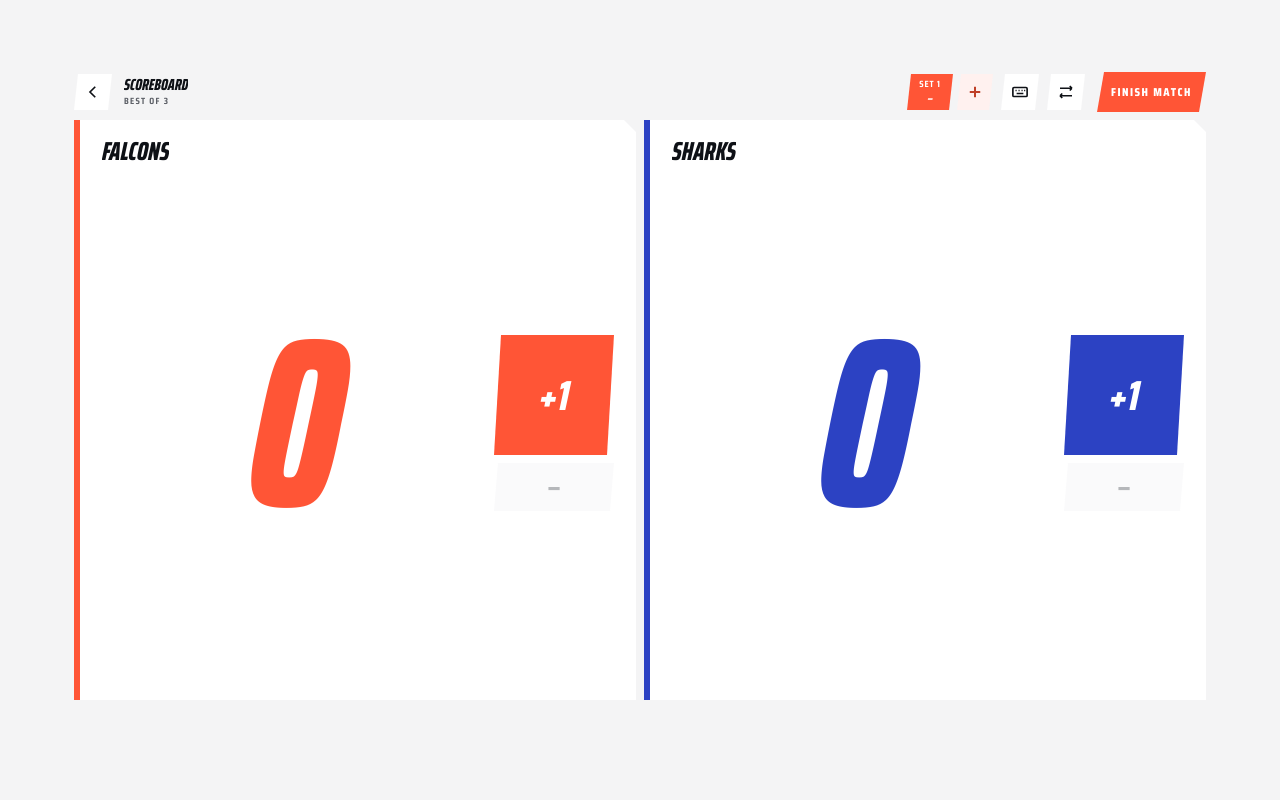
Test: modal mode: the right-side drawer › opens as a right-side drawer on desktop
Click the button named "Type scores" at coordinates (1020, 92), box x1=998 y1=70 x2=1042 y2=114
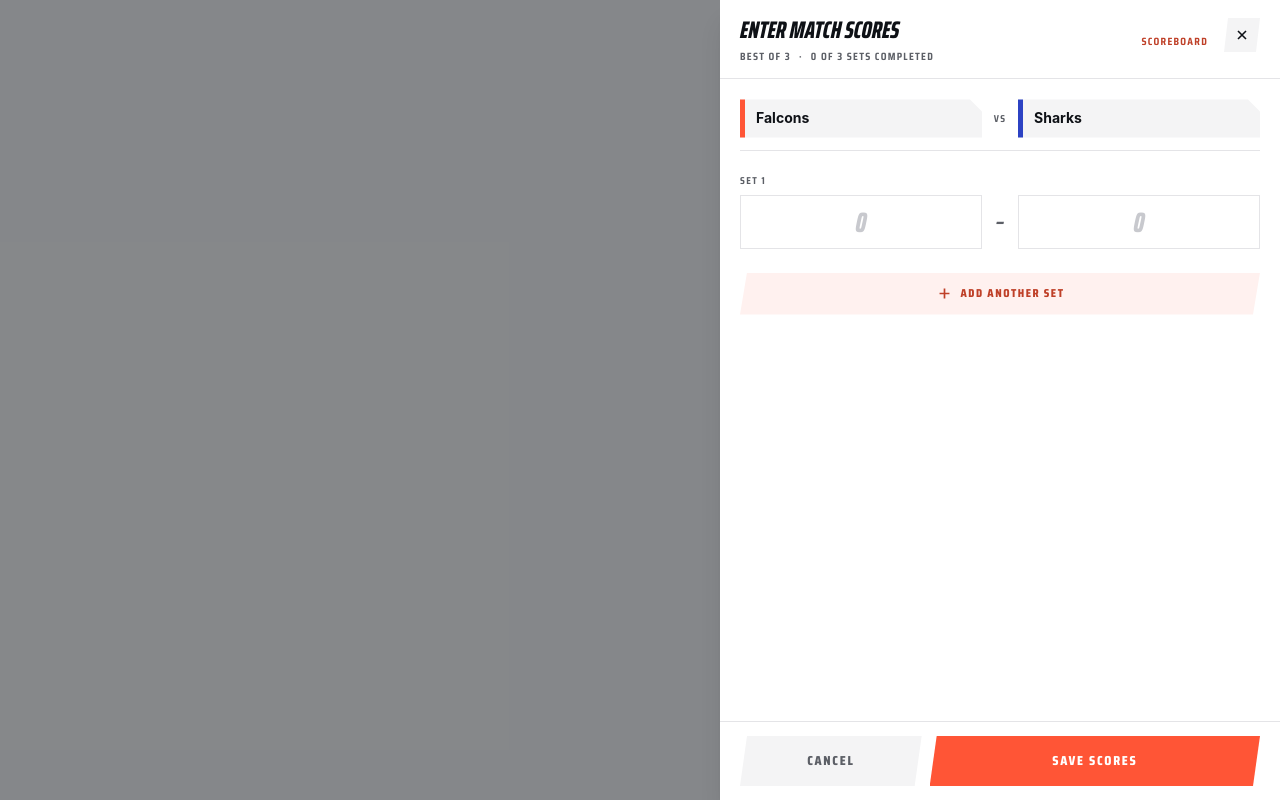
Expected: the button "Scoreboard" is shown, x1=1139 y1=25 x2=1210 y2=58
Now the number of number fields is 2, box x1=740 y1=195 x2=982 y2=249; x1=1018 y1=195 x2=1260 y2=249
Now the button "Save Scores" is shown, box x1=930 y1=736 x2=1260 y2=786
